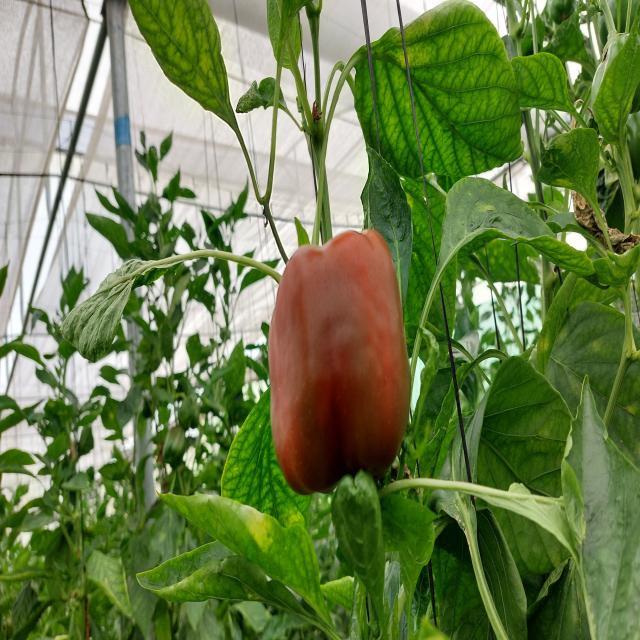Red-Ready-to-Harvest: (270, 228, 412, 480)
